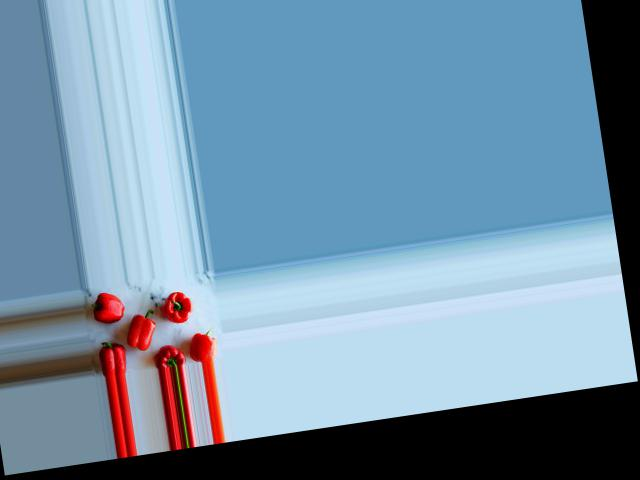bell_pepper: (152, 342, 185, 368)
